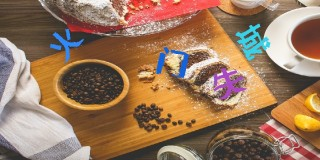城: (235, 23, 271, 61)
失: (213, 67, 247, 100)
火: (50, 28, 85, 61)
门: (155, 46, 190, 78)
